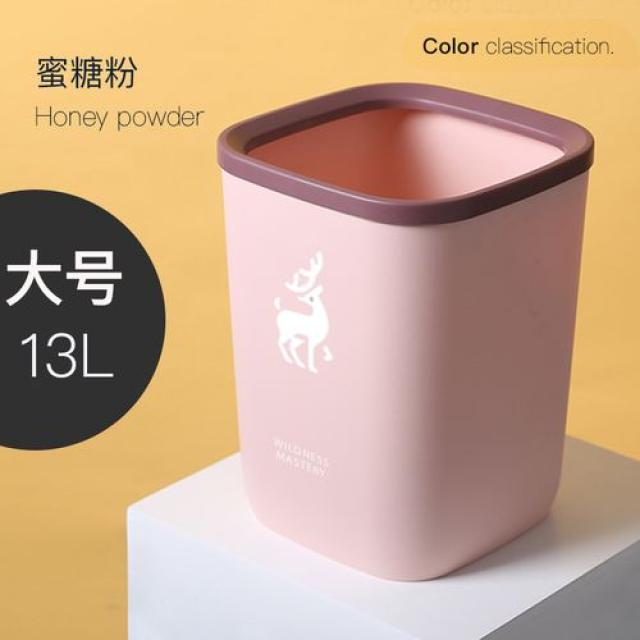dustbin: (214, 76, 604, 588)
